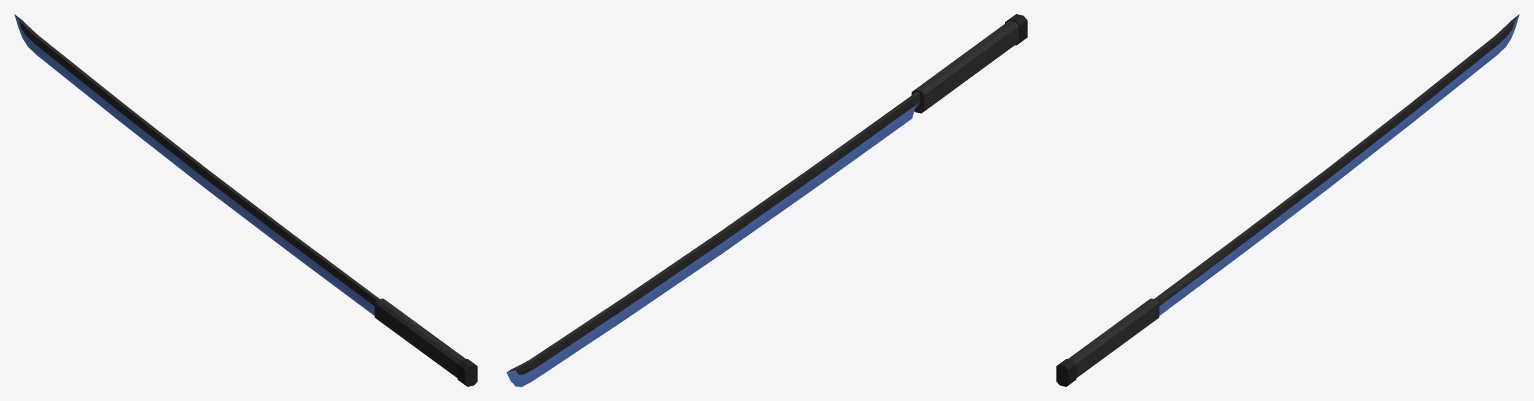
The model's file is katanaform(katana).FBX.
3 views of the same model, side by side, from view 1: azimuth 30°, elevation 25°; view 2: azimuth 150°, elevation 25°; view 3: azimuth 330°, elevation 25° (orthographic). The views are drawn at different scales.
Visible parts, largest first — view 1: Box086; view 2: Box086; view 3: Box086.
Boxes of the visible parts, box(x1,y1,x2,y2) form: Box086: box(14, 14, 477, 386); Box086: box(506, 14, 1027, 386); Box086: box(1056, 14, 1519, 386).
Bounding box in the file's own units: 2.33 × 6.39 × 138.
Materials: 1 (1 with a texture image).
